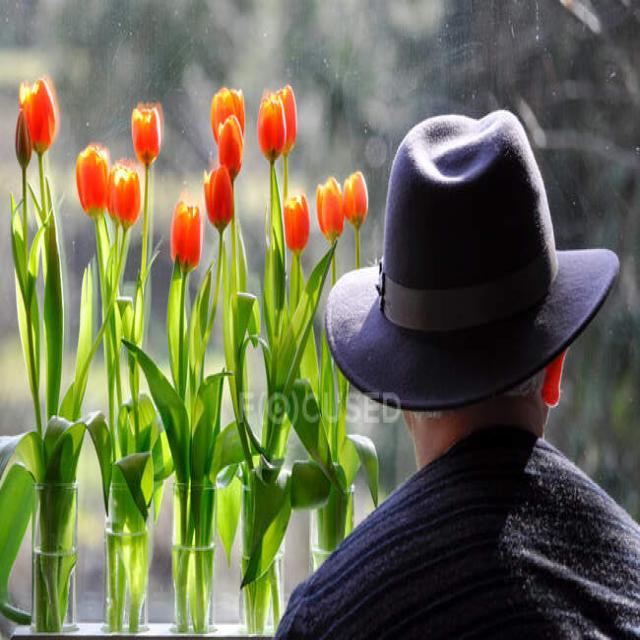hat: (324, 115, 618, 456)
